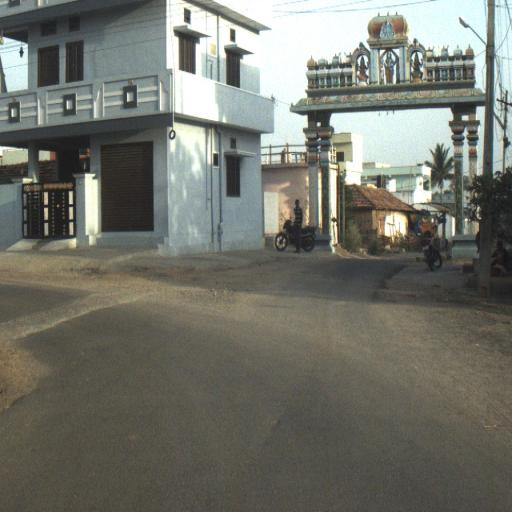street_light_0: (458, 16, 495, 66)
